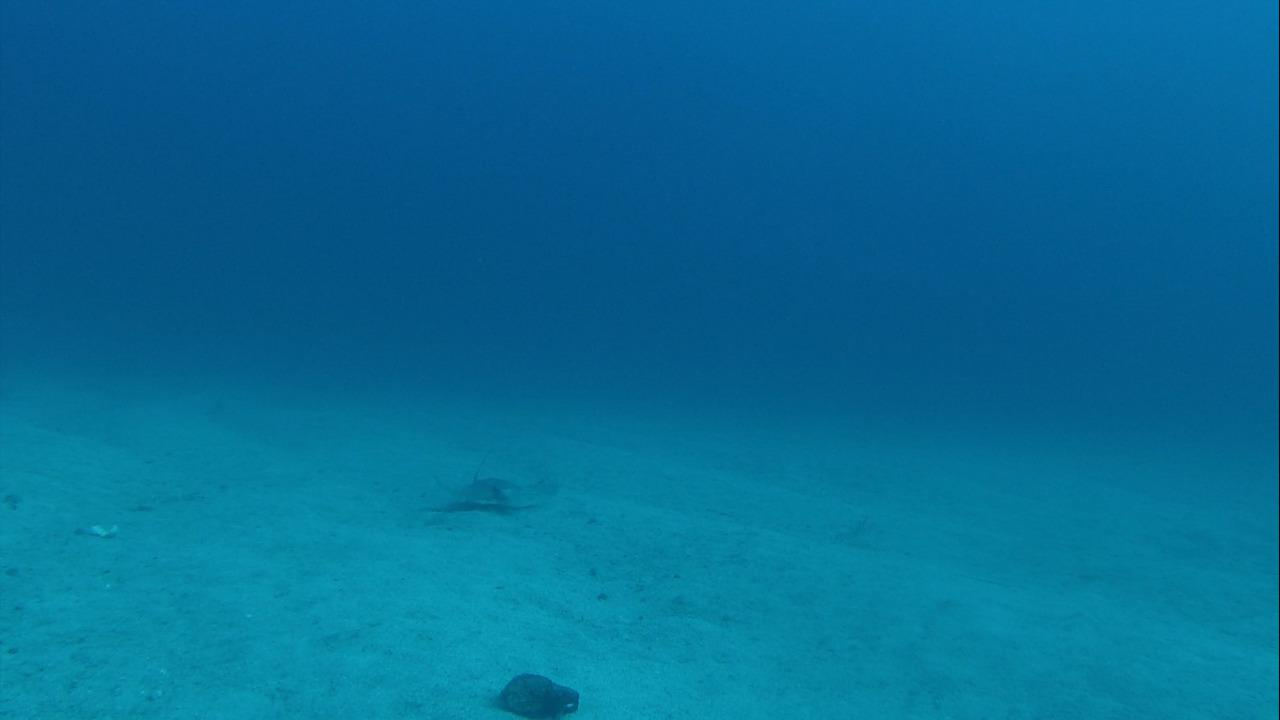myliobatis: (423, 453, 560, 521)
